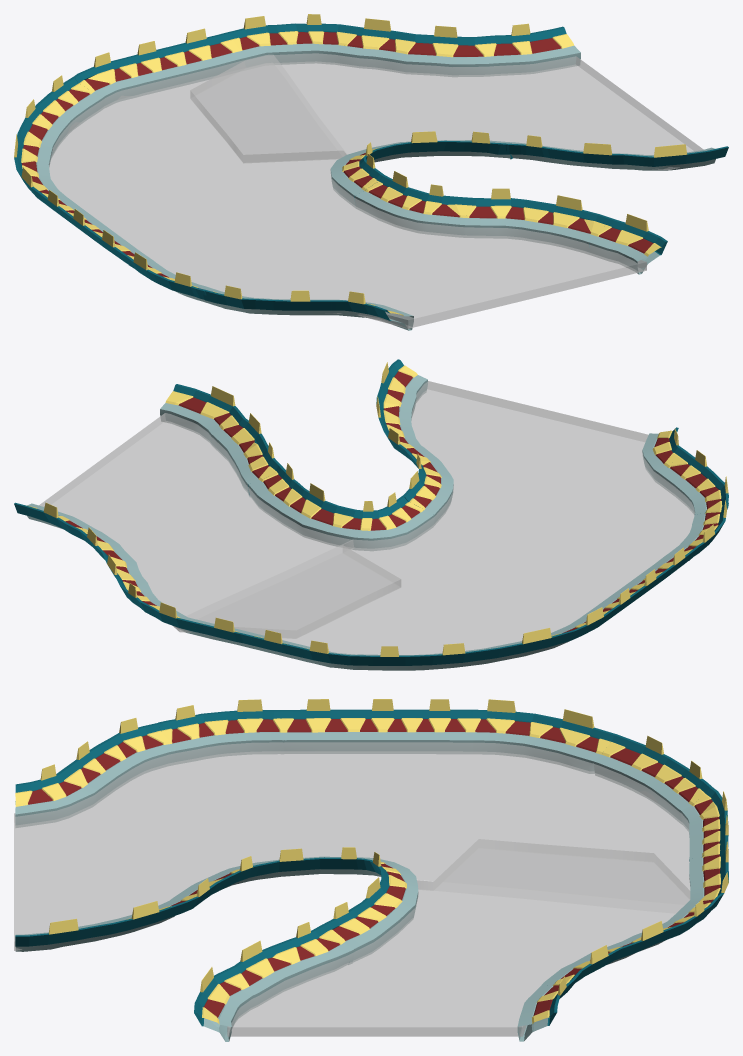
The model's file is CURVA_CERRADA.FBX.
The picture shows the model from 3 angles, top to bottom: view 1: azimuth 30°, elevation 25°; view 2: azimuth 150°, elevation 25°; view 3: azimuth 270°, elevation 25°; orthographic projection. The views are drawn at different scales.
Parts seen in each view (by area): view 1: Box005, Box012, RECTA016, RECTA017, RECTA018, Rectaaaa009; view 2: Box005, Box012, RECTA016, RECTA017, RECTA018, Rectaaaa009; view 3: Box005, Box012, RECTA018, RECTA017, RECTA016, Rectaaaa009.
Part boxes in pixels (box(x1,y1,x2,y2)): Box005: box(49, 54, 646, 328); Box012: box(190, 53, 703, 169); RECTA016: box(226, 14, 728, 170); RECTA017: box(123, 171, 667, 330); RECTA018: box(14, 28, 245, 263); Rectaaaa009: box(330, 142, 385, 207); Box005: box(186, 381, 694, 654); Box012: box(39, 413, 400, 638); RECTA016: box(14, 384, 348, 637); RECTA017: box(376, 359, 728, 560); RECTA018: box(191, 547, 694, 670); Rectaaaa009: box(332, 492, 434, 550); Box005: box(14, 742, 690, 950); Box012: box(227, 839, 689, 1036); RECTA018: box(280, 699, 728, 887); RECTA017: box(15, 699, 324, 951); RECTA016: box(194, 872, 728, 1041); Rectaaaa009: box(319, 847, 417, 887).
Size of the model in its own units: 243 by 15 by 242.
